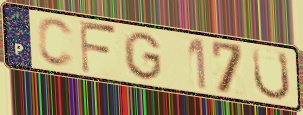1: (184, 36, 208, 92)
7: (210, 39, 246, 97)
C: (36, 16, 76, 70)
F: (77, 18, 120, 77)
G: (122, 30, 164, 82)
U: (250, 46, 293, 102)
